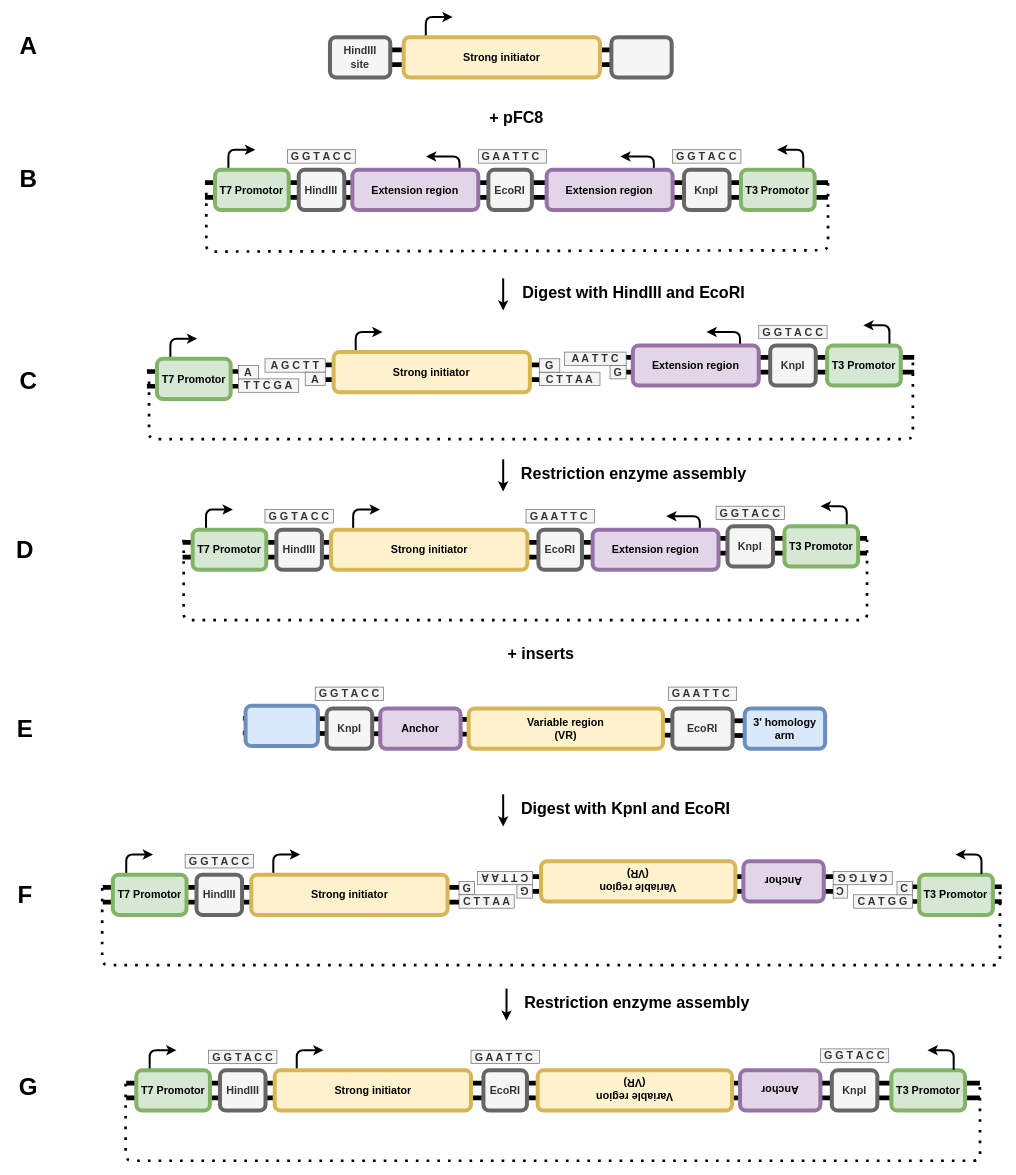
Image size: 1016x1175. Some labels were removed from this diagram. Here are the shapes that lost their labels. From the top down, the centre of each, then its label:
pixel 641 57: EcoRI site
pixel 281 726: 5' homology arm
